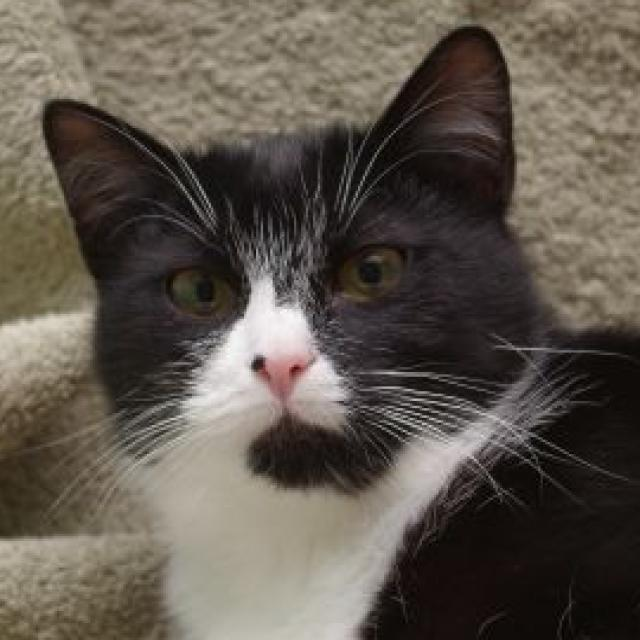Tuxedo: (38, 21, 640, 640)
